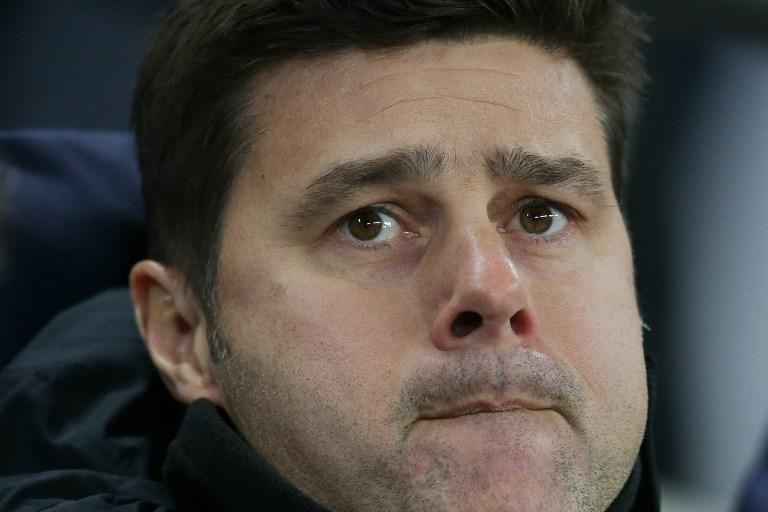Sober: (240, 70, 645, 496)
